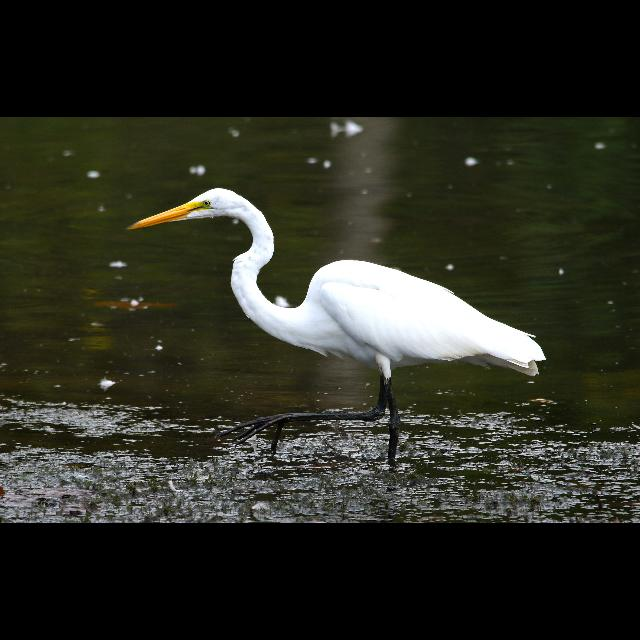egret: (128, 186, 544, 430)
